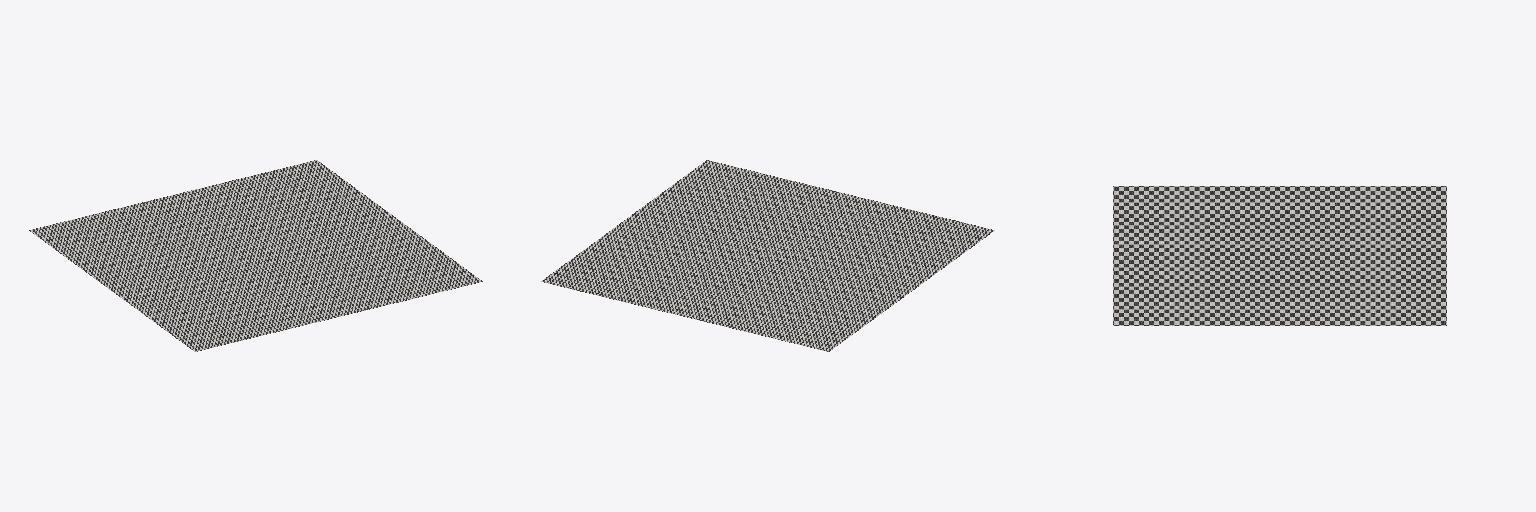
3 renders of one model, left to right at view 1: azimuth 30°, elevation 25°; view 2: azimuth 150°, elevation 25°; view 3: azimuth 270°, elevation 25°, orthographic.
Visible parts, largest first — view 1: Floor_Plane.000; view 2: Floor_Plane.000; view 3: Floor_Plane.000.
Boxes of the visible parts, <box> form: Floor_Plane.000: <box>29,160,482,351</box>; Floor_Plane.000: <box>541,160,994,351</box>; Floor_Plane.000: <box>1113,186,1446,325</box>.
Size of the model in its own units: 1000 by 0 by 1000.
1 materials, 1 textured.